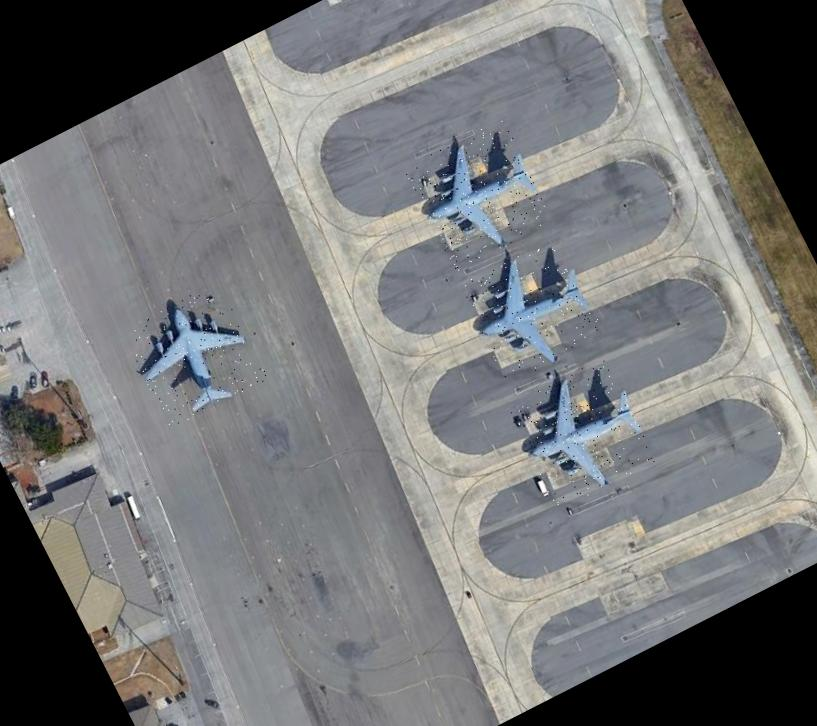A3: (504, 355, 658, 511), (403, 118, 555, 272), (456, 235, 606, 384), (119, 280, 268, 429)
